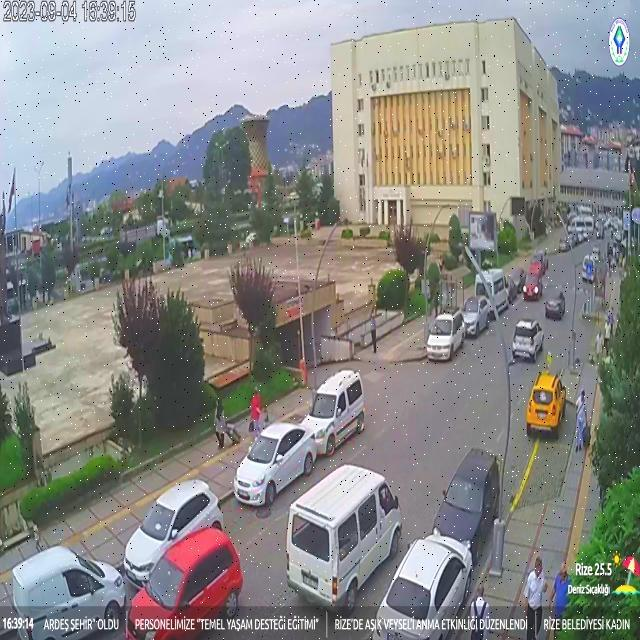Car: (123, 479, 224, 590), (372, 534, 472, 638), (431, 450, 501, 562), (233, 422, 316, 506), (302, 371, 364, 457), (525, 372, 567, 438), (501, 310, 548, 358), (425, 310, 466, 360), (474, 269, 508, 316), (461, 295, 492, 335), (544, 291, 566, 319), (507, 267, 525, 299), (522, 274, 542, 302), (581, 254, 598, 284), (532, 249, 550, 273), (558, 240, 571, 252)
Van: (285, 465, 399, 614), (11, 546, 128, 638)
